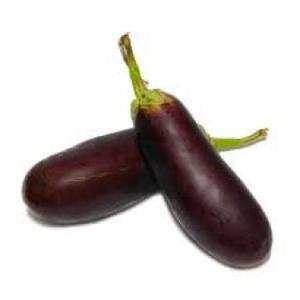eggplant: (136, 88, 270, 266), (22, 124, 218, 220)
